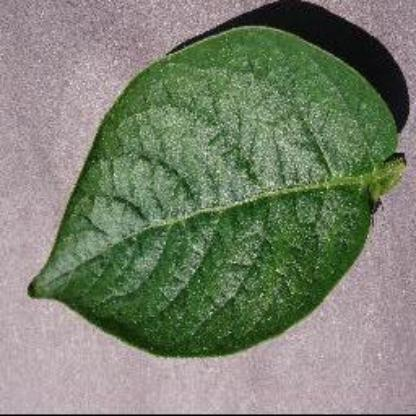Healthy-plant: (23, 21, 416, 364)
